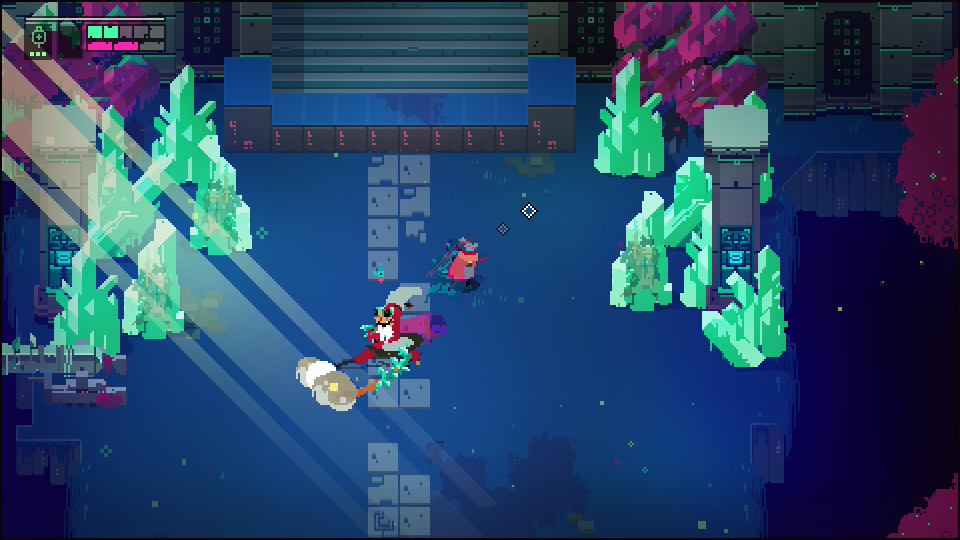hanged_man: (327, 287, 443, 395)
player: (452, 239, 478, 292)
